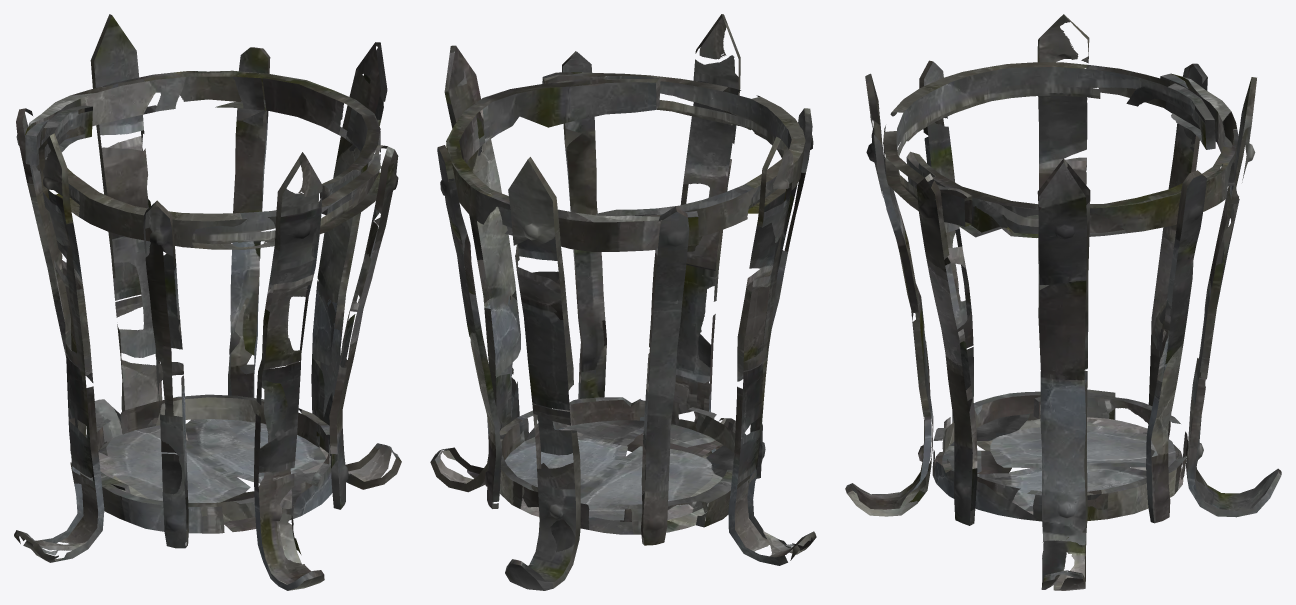
3 views of the same model, side by side, from view 1: azimuth 30°, elevation 25°; view 2: azimuth 150°, elevation 25°; view 3: azimuth 270°, elevation 25° (orthographic).
Visible parts, largest first — view 1: SM_Garou_Firepit_Medium_01_LOD0; view 2: SM_Garou_Firepit_Medium_01_LOD0; view 3: SM_Garou_Firepit_Medium_01_LOD0.
Part boxes in pixels (x1,y1,x2,y2): SM_Garou_Firepit_Medium_01_LOD0: (14, 14, 401, 590); SM_Garou_Firepit_Medium_01_LOD0: (430, 14, 816, 590); SM_Garou_Firepit_Medium_01_LOD0: (845, 14, 1281, 590).
Size of the model in its own units: 0.8372 by 0.9395 by 0.8509.
